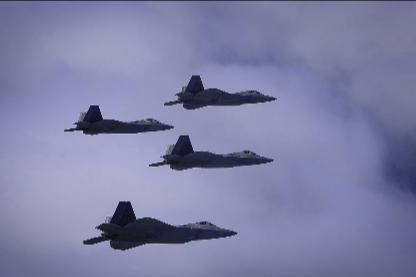F18: (82, 200, 238, 248), (148, 134, 274, 169), (164, 73, 276, 108), (63, 104, 174, 134)
